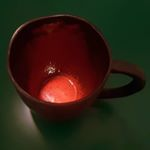cups: (4, 12, 150, 123)
